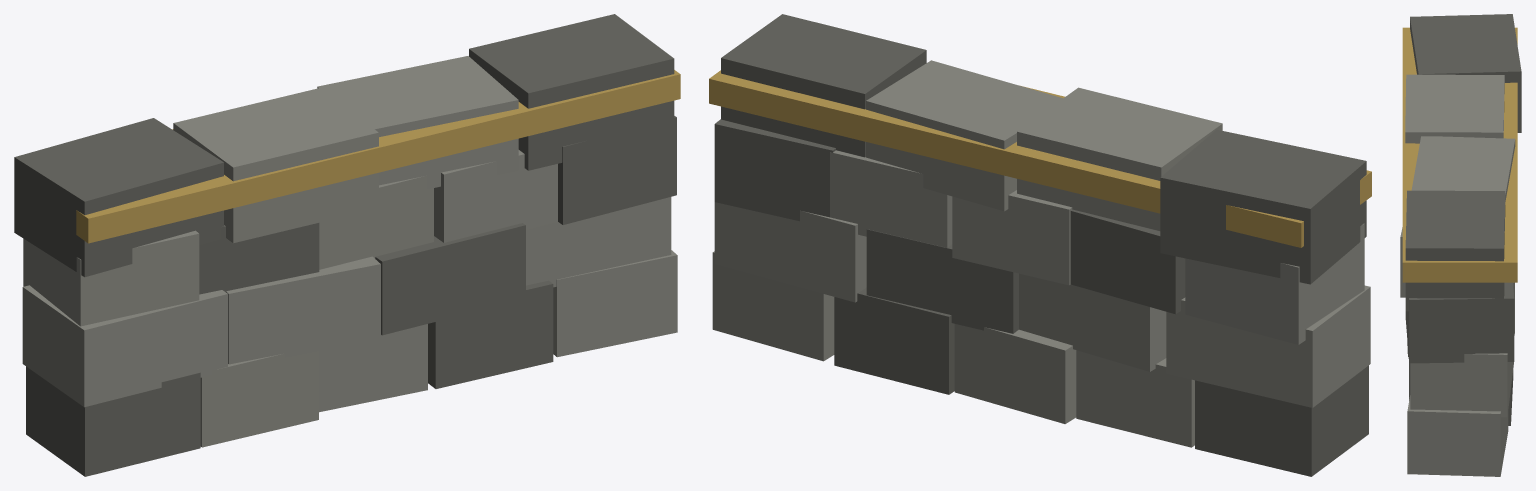
File: prop_dolddam.glb
3 views of the same model, side by side, from view 1: azimuth 30°, elevation 25°; view 2: azimuth 150°, elevation 25°; view 3: azimuth 270°, elevation 25° (orthographic). The views are drawn at different scales.
Visible parts, largest first — view 1: prop_dolddam; view 2: prop_dolddam; view 3: prop_dolddam.
Boxes of the visible parts, x1,y1,x2,y2 form: prop_dolddam: [14, 14, 680, 476]; prop_dolddam: [709, 14, 1371, 476]; prop_dolddam: [1400, 14, 1521, 476].
Bounding box in the file's own units: 3.07 × 1.33 × 0.6531.
